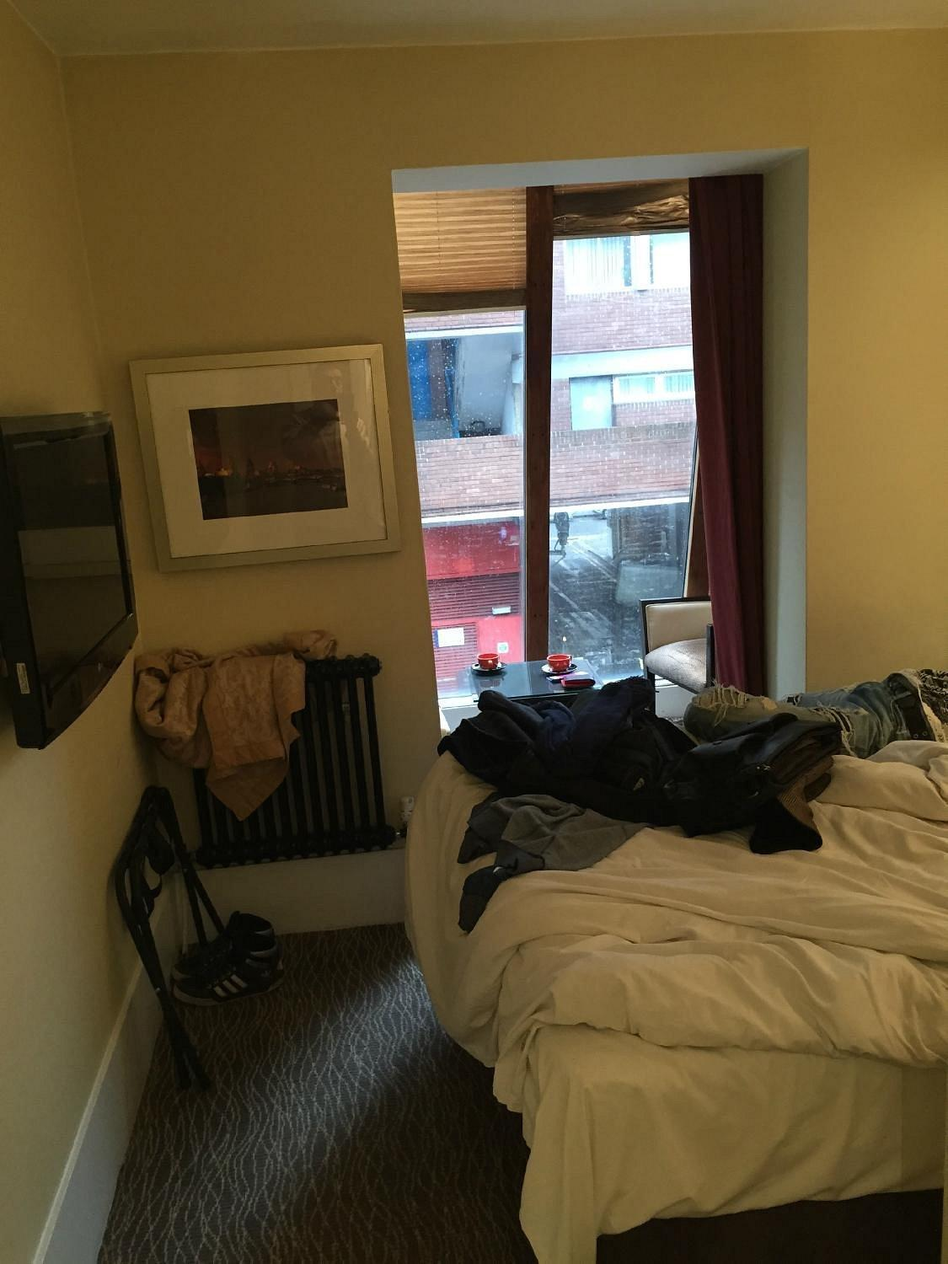mess: (457, 672, 948, 864), (139, 634, 392, 855)
messy_bed: (400, 657, 947, 1216)
